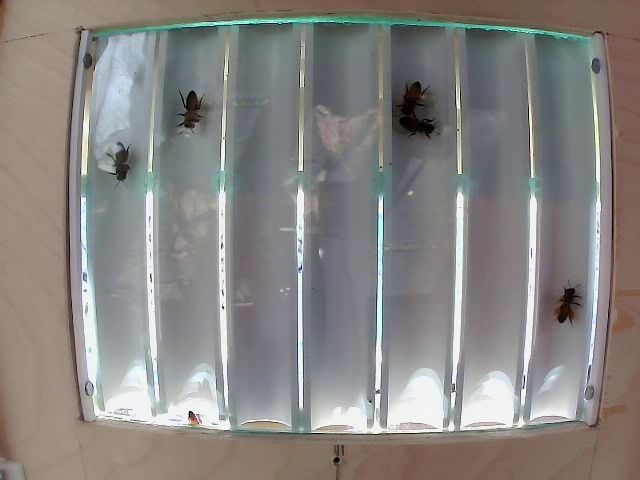bee: (161, 85, 210, 123), (554, 274, 585, 333), (98, 134, 135, 180), (391, 76, 424, 110), (399, 104, 427, 137)
